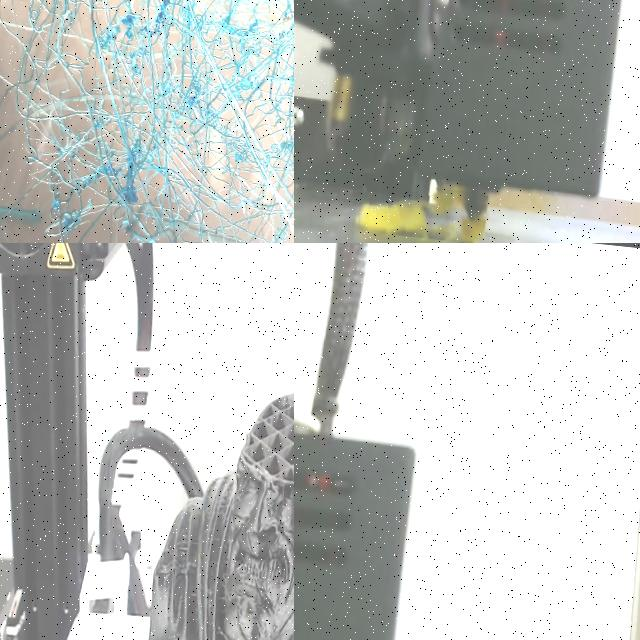spaghetti: (0, 0, 294, 243), (357, 188, 486, 243)
